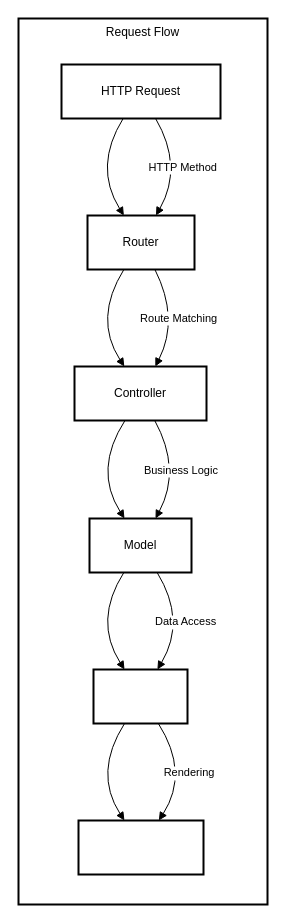
Some shapes in this 285 by 922 pixel diagram are drawn without their labels. Each missing label, with the box of its shape:
Response: (77, 819, 204, 875)
View: (92, 668, 188, 724)
